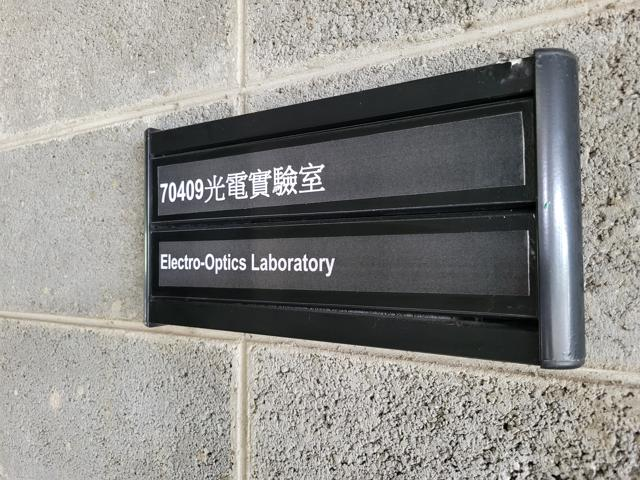doorplate: (134, 36, 591, 379)
